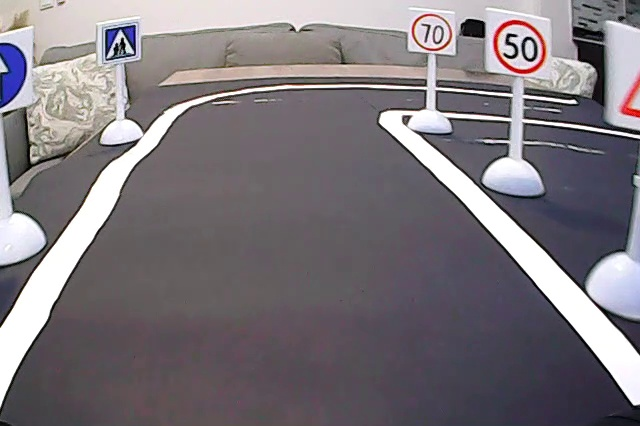school crossing: (100, 24, 141, 63)
speed limit 50: (490, 16, 550, 78)
speed limit 70: (412, 13, 454, 53)
